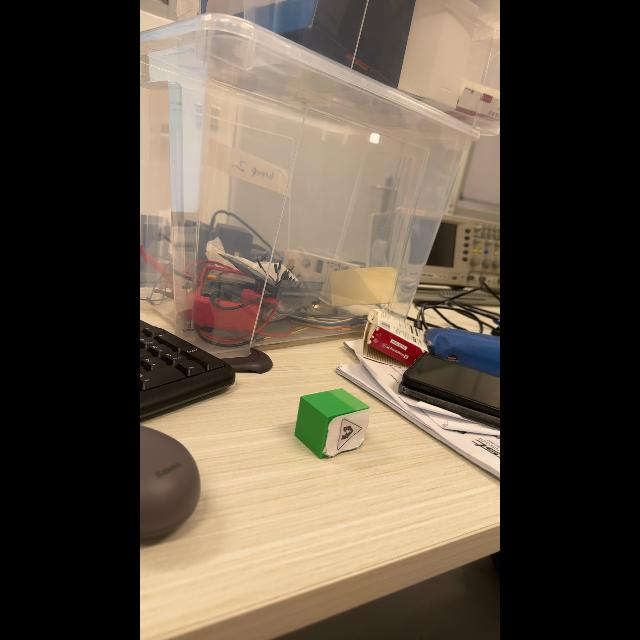Earthquake: (337, 416, 362, 451)
